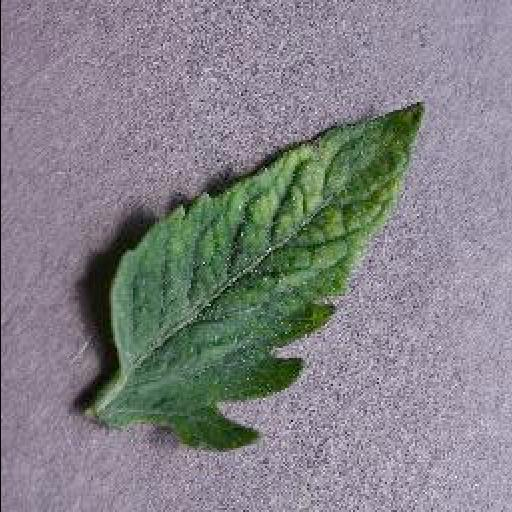disease_tomato: (108, 102, 432, 458)
